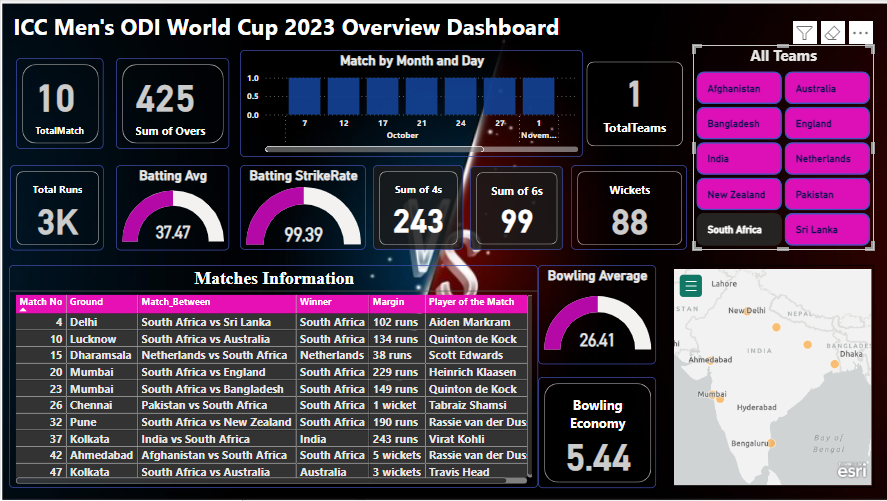

The dashboard page shown, as its layout file describes it:
{"tool":"powerbi","page":{"name":"ICC World Cup 2023 Overall Tournament Overview","canvas":[1280,720],"ordinal":0},"visuals":[{"type":"cardVisual","fields":{"Data":["Sum(bowling_summary.Overs)"]},"box":[165.9,84.1,162.5,130.7],"z":0},{"type":"cardVisual","fields":{"Data":["Key_Measures.wickets"]},"box":[820.8,237.6,167,122.4],"z":1000},{"type":"cardVisual","fields":{"Data":["Key_Measures.Total Runs"]},"box":[12.5,237.5,135.2,122.7],"z":2000},{"type":"lineClusteredColumnComboChart","title":"Match by Month and Day","fields":{"Category":["matches_schedule_results.Date.Variation.Date Hierarchy.Month","matches_schedule_results.Date.Variation.Date Hierarchy.Day"],"Y":["CountNonNull(matches_schedule_results.Match No)"]},"box":[344.2,72,493.9,154.1],"z":3000},{"type":"tableEx","title":"     Matches Information","fields":{"Values":["matches_schedule_results.Match No","matches_schedule_results.Ground","batting_summary_out.Match_Between","matches_schedule_results.Winner","matches_schedule_results.Margin","matches_schedule_results.Player of the Match"]},"box":[11.5,381.6,761.8,321.1],"z":4000},{"type":"advancedSlicerVisual","title":"All Teams","fields":{"Values":["world_cup_players_info.team_name"]},"box":[996.5,64.8,260.6,295.2],"z":5000},{"type":"cardVisual","title":"4s","fields":{"Data":["Sum(batting_summary_out.4s)"]},"box":[535.7,237.6,129.6,122.4],"z":6000},{"type":"cardVisual","fields":{"Data":["Sum(batting_summary_out.6s)"]},"box":[675.4,239,133.9,121],"z":7000},{"type":"cardVisual","fields":{"Data":["Key_Measures.TotalTeams"]},"box":[838.1,83.5,149.8,132.5],"z":8000},{"type":"cardVisual","fields":{"Data":["Key_Measures.TotalMatchesCount"]},"box":[21.6,84.1,126.1,130.7],"z":9000},{"type":"cardVisual","fields":{"Data":["Key_Measures.Economy"]},"box":[773.1,543.3,170.1,159.7],"z":10000},{"type":"gauge","fields":{"Y":["Key_Measures.Bowling Average"]},"box":[773.3,381.6,169.9,142.6],"z":11000},{"type":"gauge","fields":{"Y":["Key_Measures.Batting Avg"]},"box":[165.9,237.5,162.5,122.7],"z":12000},{"type":"gauge","fields":{"Y":["Key_Measures.Strike rate"]},"box":[344.2,237.6,181.4,122.4],"z":13000},{"type":"textbox","box":[12.5,10.2,808,54.5],"z":14000},{"type":"esriVisual","fields":{"Location":["matches_schedule_results.Ground"]},"box":[963.4,381.6,293.8,321.1],"z":15000}]}

Visuals, with their boxes in screenshot pixels (x1, y1, x2, y2), scaled from the page's 1280x720 canvas onto the 887x501 screenshot:
cardVisual - Sum(bowling_summary.Overs): (115,59,228,149)
cardVisual - Key_Measures.wickets: (569,165,685,250)
cardVisual - Key_Measures.Total Runs: (9,165,102,251)
"Match by Month and Day" lineClusteredColumnComboChart: (239,50,581,157)
"     Matches Information" tableEx: (8,266,536,489)
"All Teams" advancedSlicerVisual: (691,45,871,250)
"4s" cardVisual: (371,165,461,250)
cardVisual - Sum(batting_summary_out.6s): (468,166,561,250)
cardVisual - Key_Measures.TotalTeams: (581,58,685,150)
cardVisual - Key_Measures.TotalMatchesCount: (15,59,102,149)
cardVisual - Key_Measures.Economy: (536,378,654,489)
gauge - Key_Measures.Bowling Average: (536,266,654,365)
gauge - Key_Measures.Batting Avg: (115,165,228,251)
gauge - Key_Measures.Strike rate: (239,165,364,250)
textbox: (9,7,569,45)
esriVisual - matches_schedule_results.Ground: (668,266,871,489)
